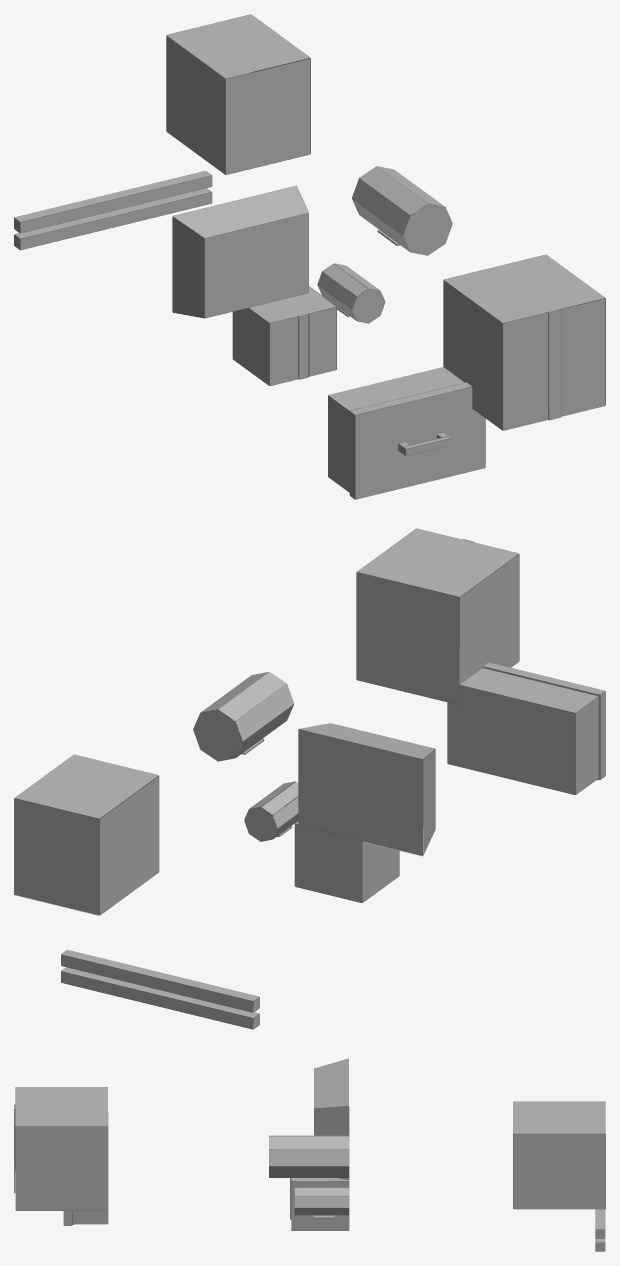
The model's file is contents_books_misc_01_25.obj.
The picture shows the model from 3 angles, top to bottom: view 1: azimuth 30°, elevation 25°; view 2: azimuth 150°, elevation 25°; view 3: azimuth 270°, elevation 25°; orthographic projection. The views are drawn at different scales.
Visible parts, largest first — view 1: contents_books_misc_01_25; view 2: contents_books_misc_01_25; view 3: contents_books_misc_01_25.
Part boxes in pixels (x1=…): contents_books_misc_01_25: x1=14, y1=14, x2=605, y2=499; contents_books_misc_01_25: x1=14, y1=528, x2=605, y2=1029; contents_books_misc_01_25: x1=14, y1=1058, x2=605, y2=1251.
Size of the model in its own units: 0.685 by 0.485 by 1.84.
1 material, 1 textured.
